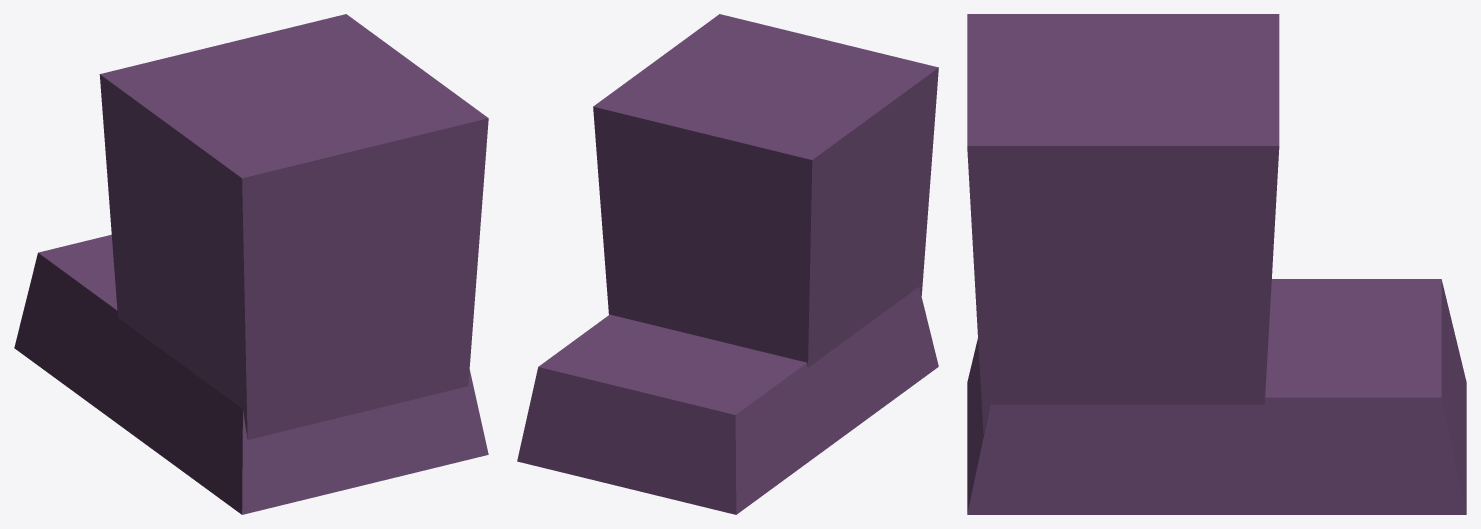
Rendered from animal_colossustoad_leg.obj.
3 views of the same model, side by side, from view 1: azimuth 30°, elevation 25°; view 2: azimuth 150°, elevation 25°; view 3: azimuth 270°, elevation 25° (orthographic). The views are drawn at different scales.
Parts seen in each view (by area): view 1: animal_colossustoad_leg; view 2: animal_colossustoad_leg; view 3: animal_colossustoad_leg.
Part boxes in pixels (x1,y1,x2,y2): animal_colossustoad_leg: (14,14,488,514); animal_colossustoad_leg: (517,14,938,514); animal_colossustoad_leg: (967,14,1466,514).
Size of the model in its own units: 0.0966 by 0.126 by 0.1546.
